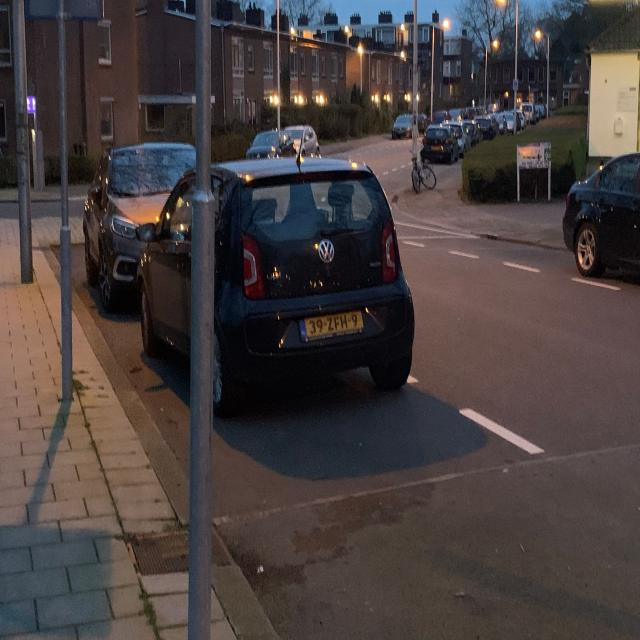plate: (298, 307, 365, 342)
